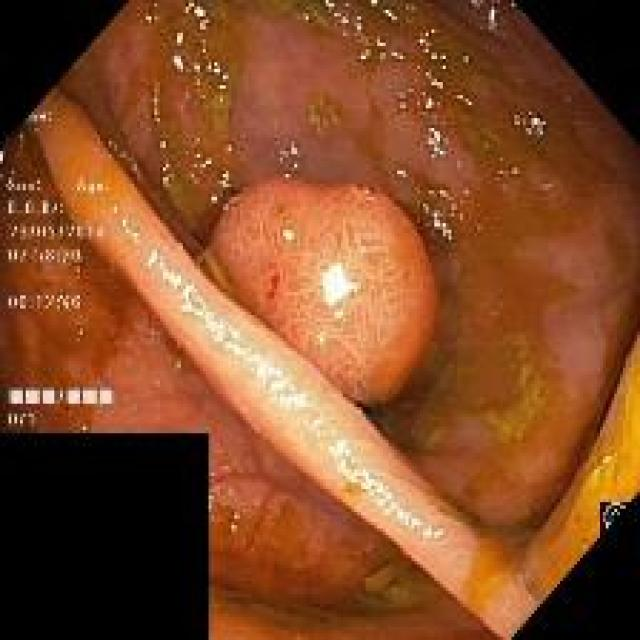Polyps: (209, 178, 438, 404)
